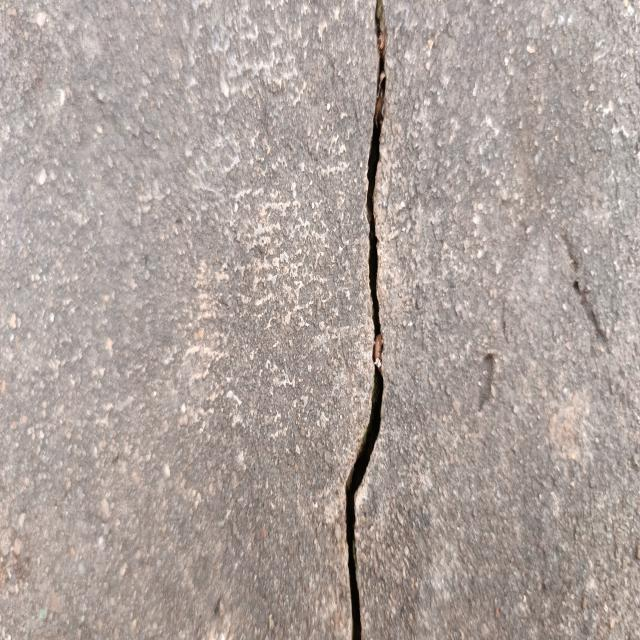vertical cracks: (346, 0, 386, 640)
